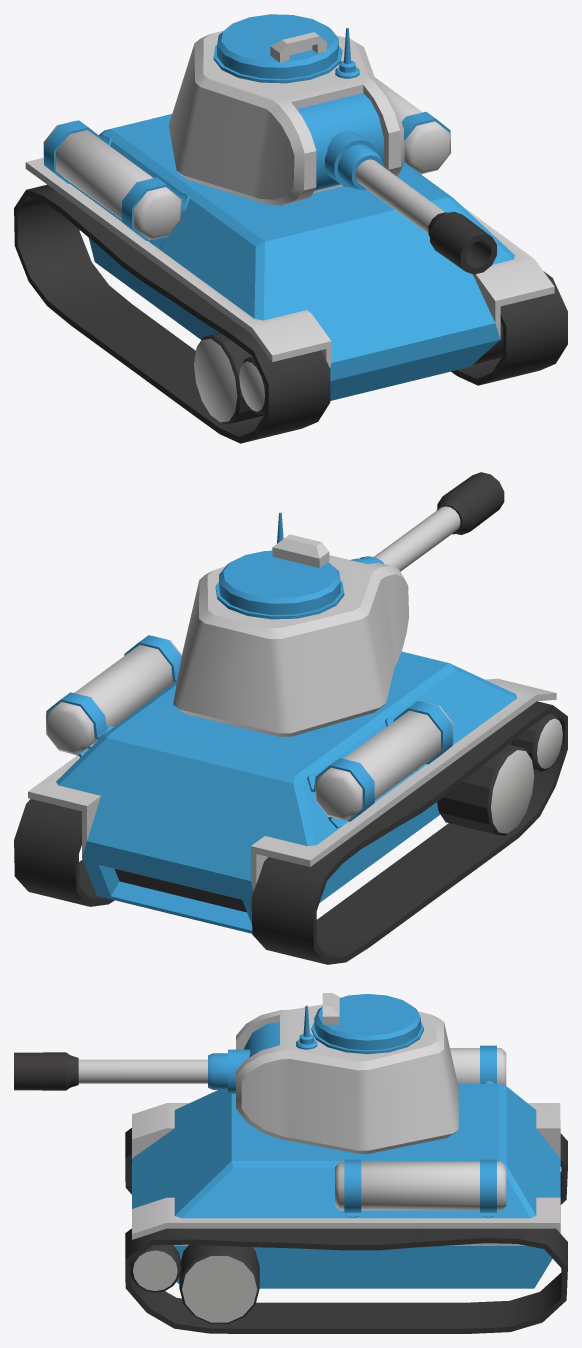
The model's file is Tank.fbx.
3 views of the same model, one above another, from view 1: azimuth 30°, elevation 25°; view 2: azimuth 150°, elevation 25°; view 3: azimuth 270°, elevation 25° (orthographic). The views are drawn at different scales.
Parts seen in each view (by area): view 1: Tank_Main, Trail, Tower, Barrel, Wheel, Barrel_Prop, Wheel_Small; view 2: Tank_Main, Tower, Trail, Wheel, Barrel, Barrel_Prop, Wheel_Small; view 3: Tank_Main, Tower, Trail, Wheel, Barrel, Barrel_Prop, Wheel_Small.
Boxes of the visible parts, x1,y1,x2,y2 form: Tank_Main: (25,77,554,400); Trail: (14,184,567,443); Tower: (168,14,404,205); Barrel: (297,93,444,233); Wheel: (194,322,503,424); Barrel_Prop: (428,211,496,274); Wheel_Small: (239,356,265,414); Tank_Main: (28,635,556,933); Tower: (173,512,408,736); Trail: (14,701,567,964); Wheel: (437,744,534,835); Barrel: (350,506,460,571); Barrel_Prop: (436,472,504,534); Wheel_Small: (512,713,562,771); Tank_Main: (132,1045,560,1288); Tower: (236,993,458,1153); Trail: (125,1128,567,1333); Wheel: (179,1244,259,1323); Barrel: (78,1022,279,1093); Barrel_Prop: (14,1052,78,1090); Wheel_Small: (130,1160,180,1292).
Size of the model in its own units: 2.91 by 2.8 by 5.04.
1 material, 1 textured.
